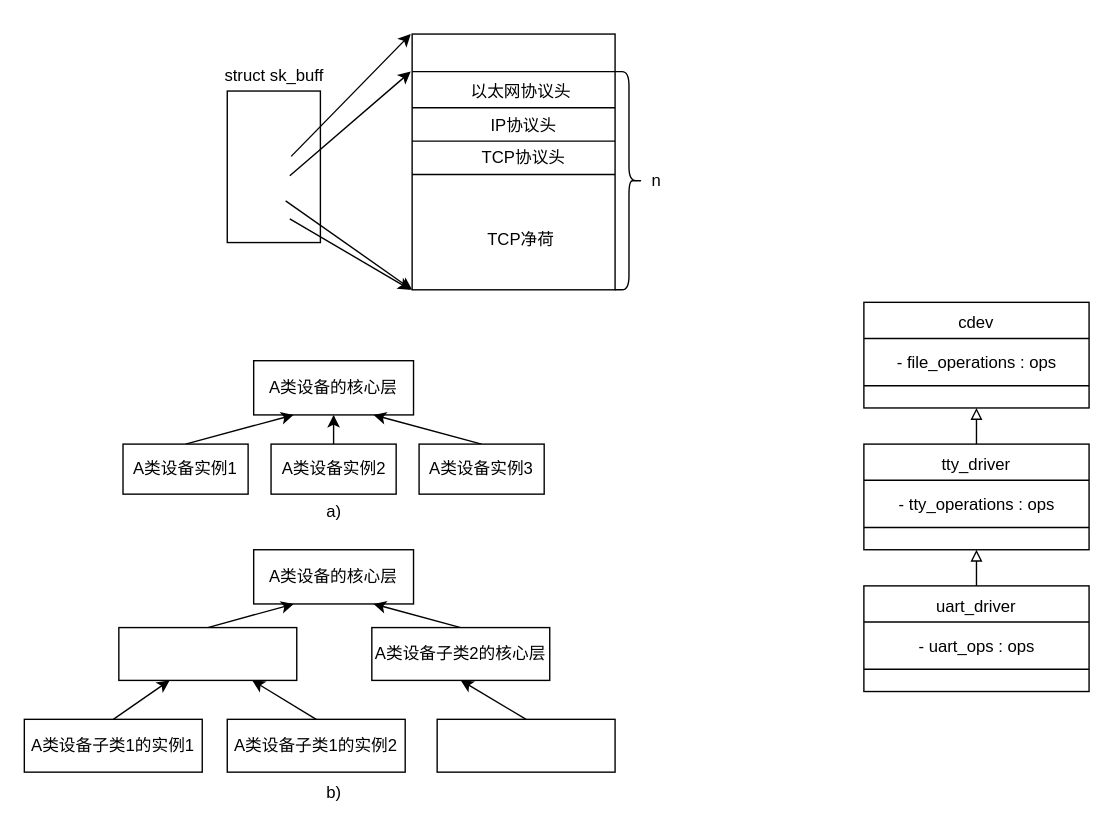
Some shapes in this 1115 by 838 pixel diagram are drawn without their labels. Here are the shapes that lost their labels. From the top down, the centre of each, then its label:
(273,166): len=n …… head data tail end
(207,653): A类设备子类1的核心层
(525,745): A类设备子类2的实例1
